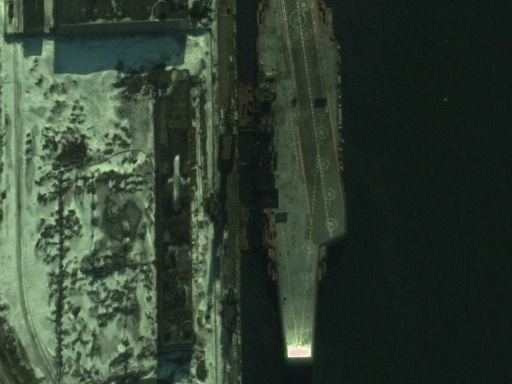ship: (250, 1, 356, 361)
